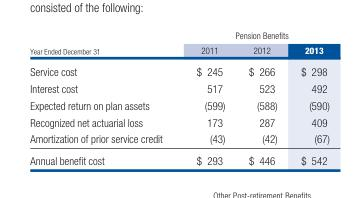table: (29, 29, 328, 166)
table column: (29, 29, 178, 166), (178, 29, 236, 166), (236, 29, 288, 166), (288, 29, 328, 166)
table column header: (29, 29, 328, 60)
table row: (29, 60, 328, 79), (29, 130, 328, 149), (29, 42, 328, 60), (29, 79, 328, 96), (29, 96, 328, 113), (29, 113, 328, 130), (29, 149, 328, 166), (29, 29, 328, 42)
table spanning cell: (29, 29, 178, 60), (178, 29, 328, 42)
